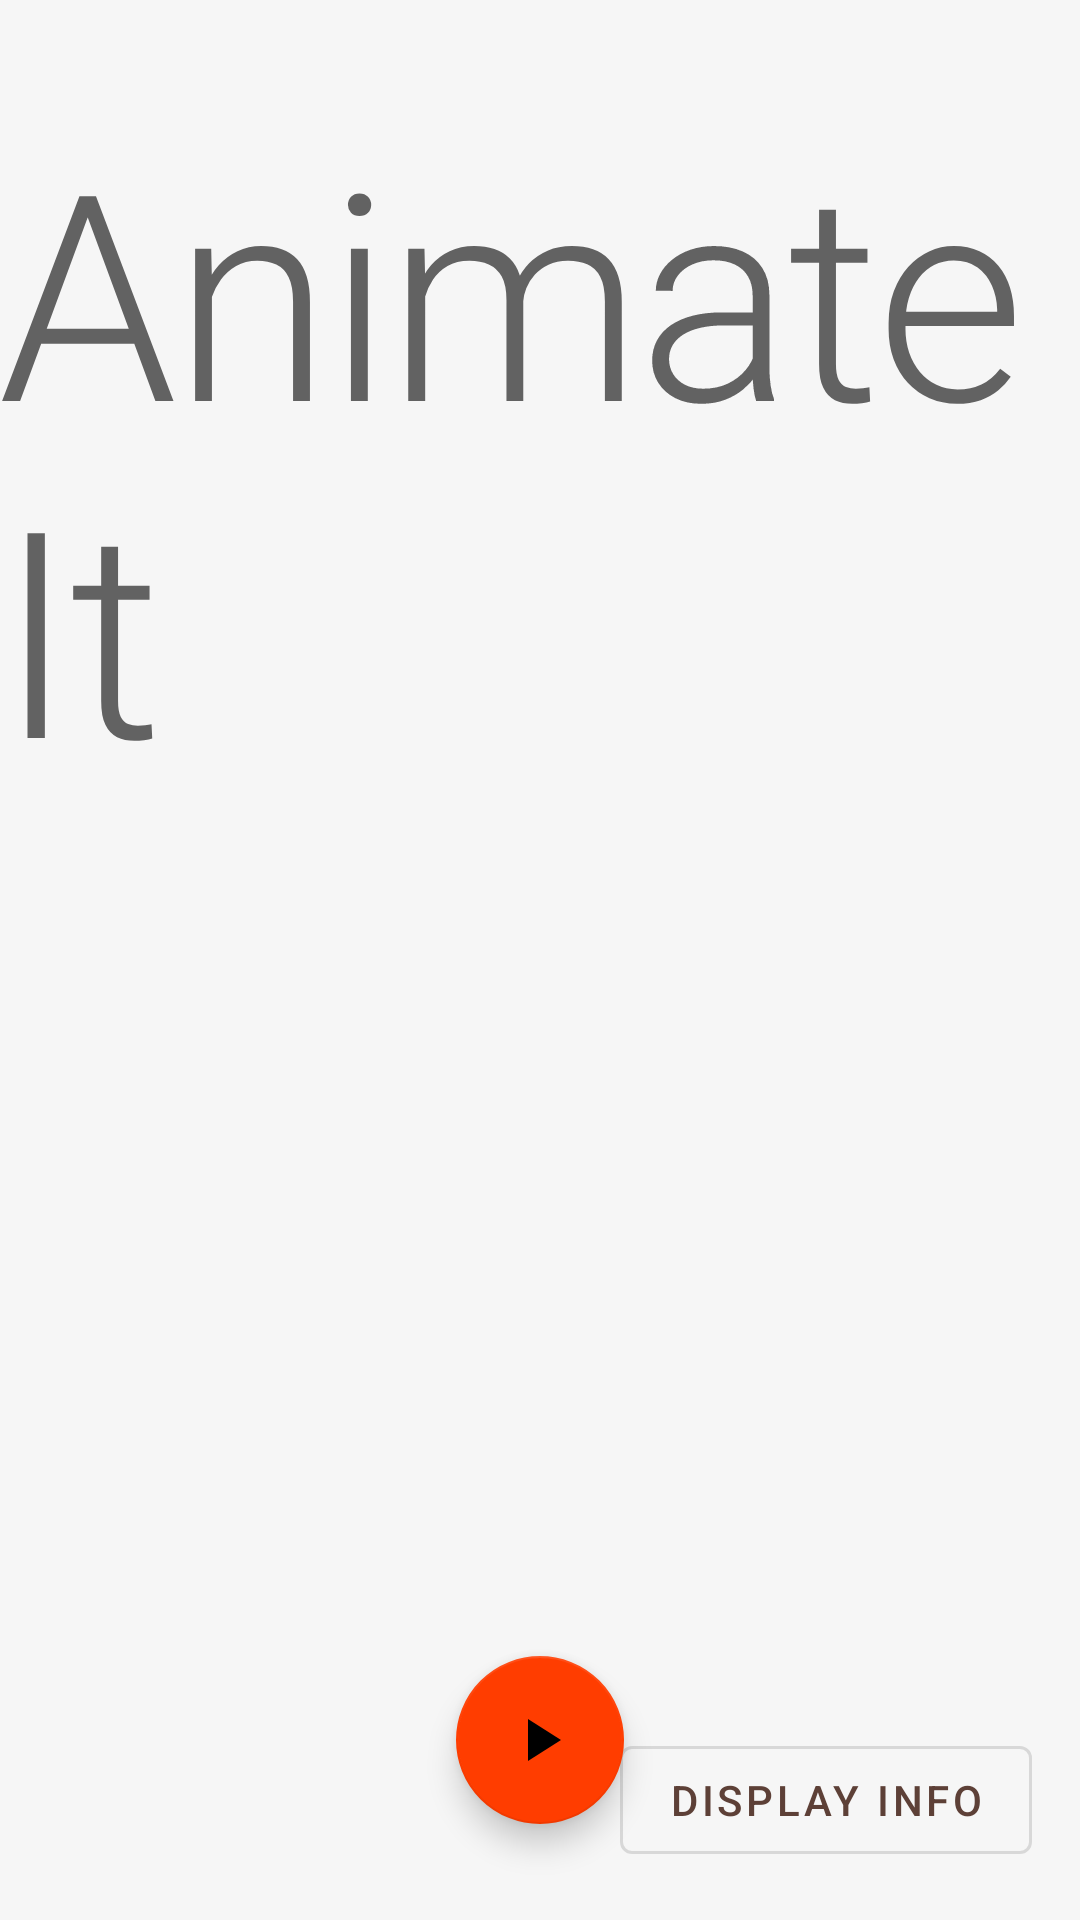

Named icons in this screenshot (1080 x 1920) and their bounding boxes, (x1, y1, x2, y2):
play arrow: (456, 1656, 624, 1824)
